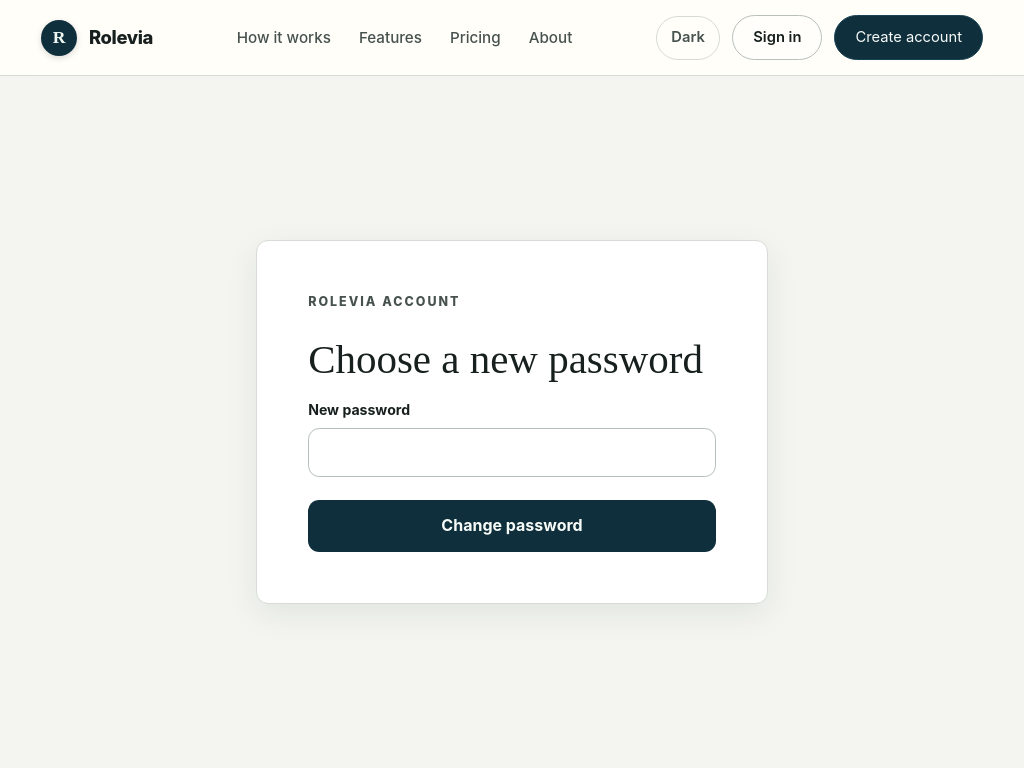
Test: Rolevia public application › renders and submits reset password form with token
The image size is (1024, 768).
Check: the heading "Choose a new password" is shown, box [308,336,716,383]
Type "new-valid-password-123" into the password field labelled "New password" at coordinates (512, 452), box [308,428,716,477]
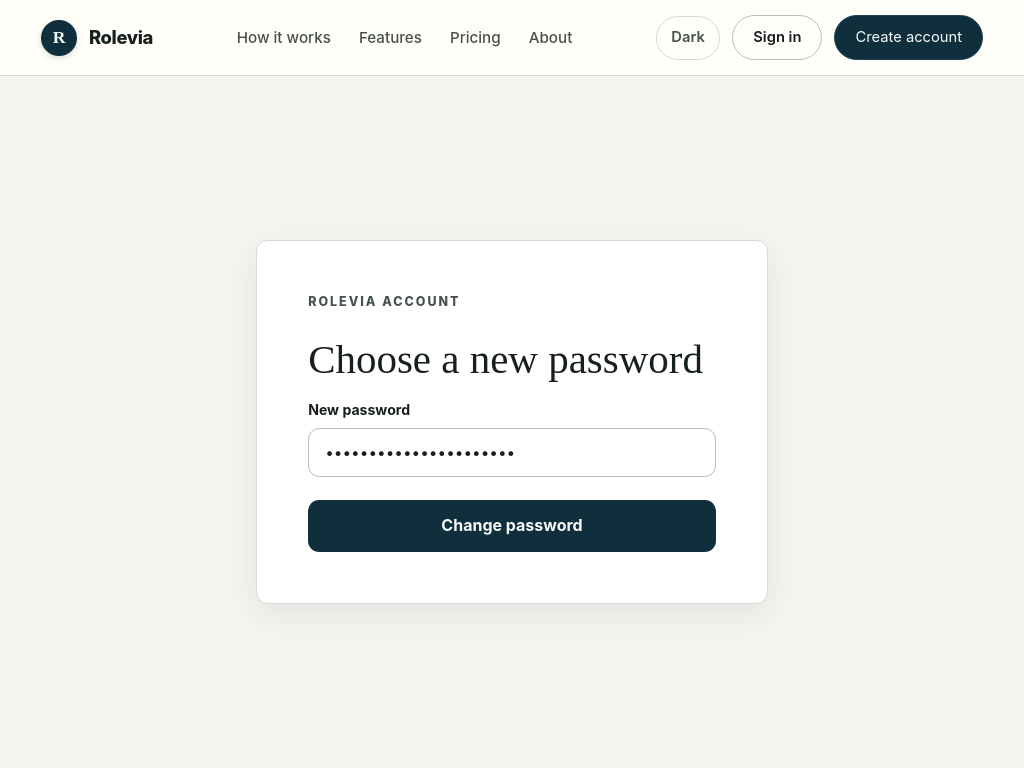
Click the button "Change password" at coordinates (512, 526), box [308,500,716,552]
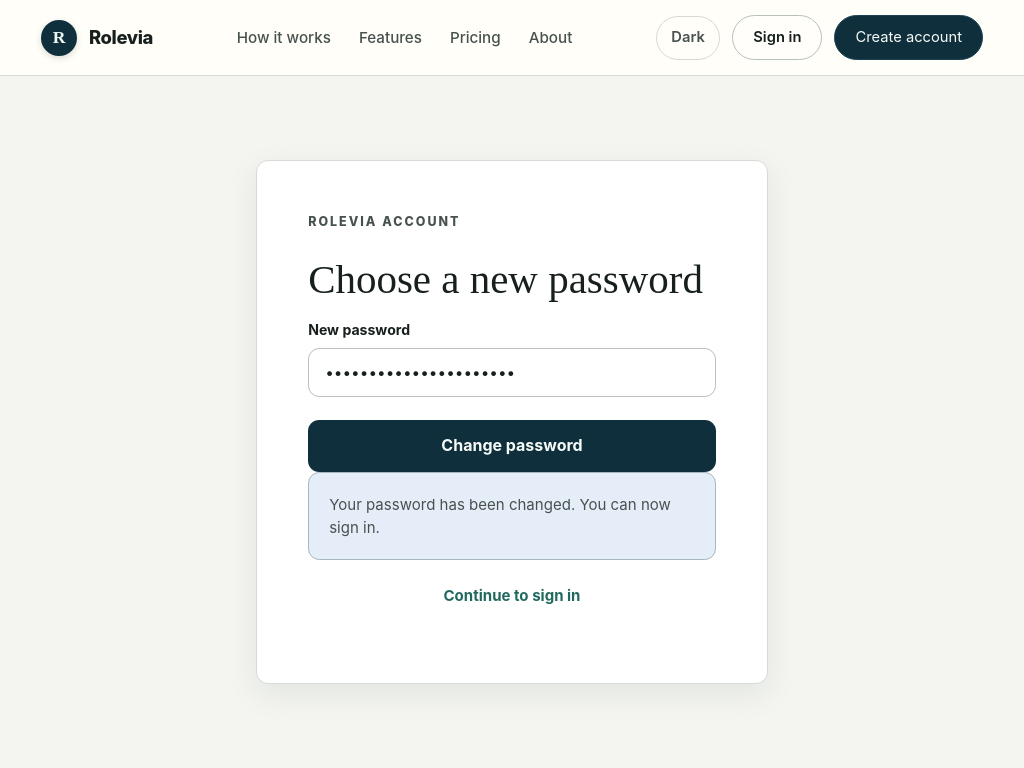
Check: the text "Your password has been changed. You can now sign in." is shown, box [308,472,716,560]
Check: the link "Continue to sign in" is shown, box [444,586,580,606]
